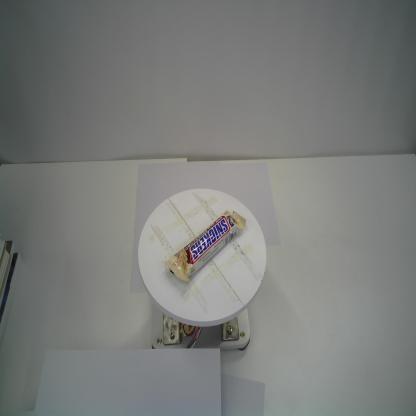Chocolate: (164, 207, 248, 284)
